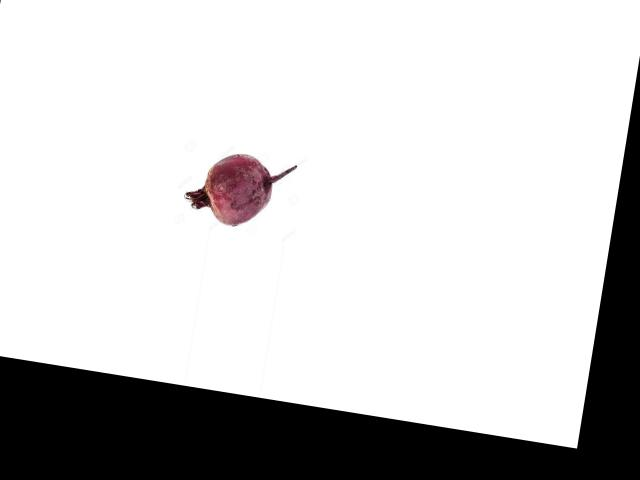beet: (181, 146, 296, 233)
